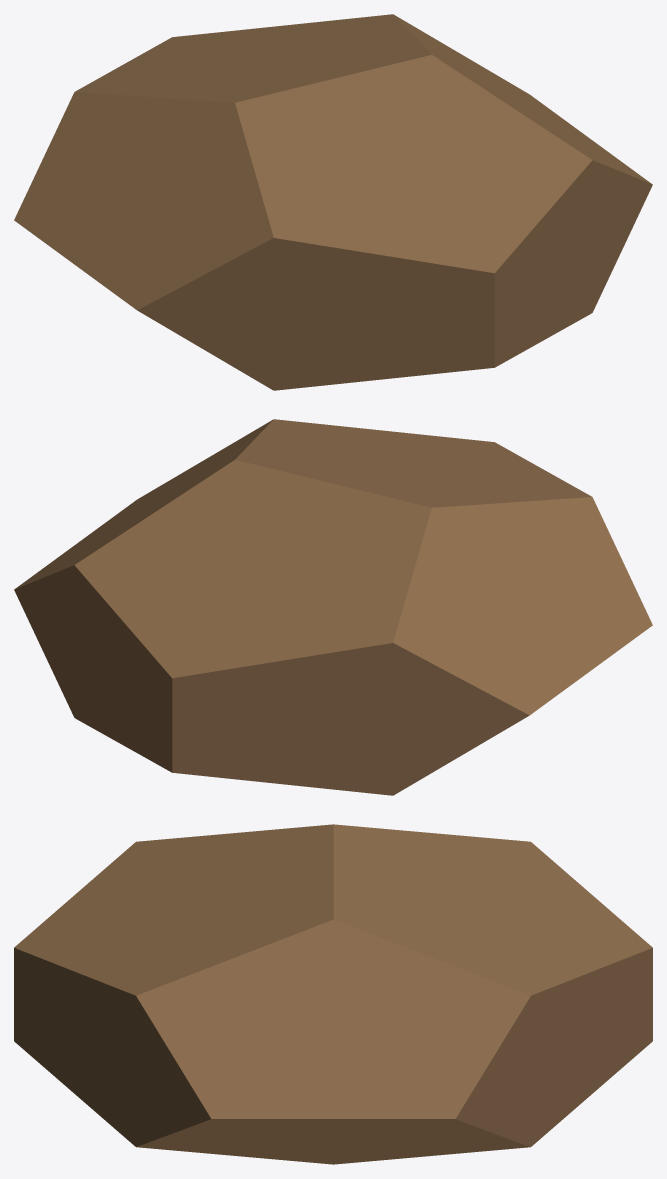
The model's file is dirt_2.glb.
The picture shows the model from 3 angles, top to bottom: view 1: azimuth 30°, elevation 25°; view 2: azimuth 150°, elevation 25°; view 3: azimuth 270°, elevation 25°; orthographic projection.
Size of the model in its own units: 0.4932 by 0.2261 by 0.5343.
